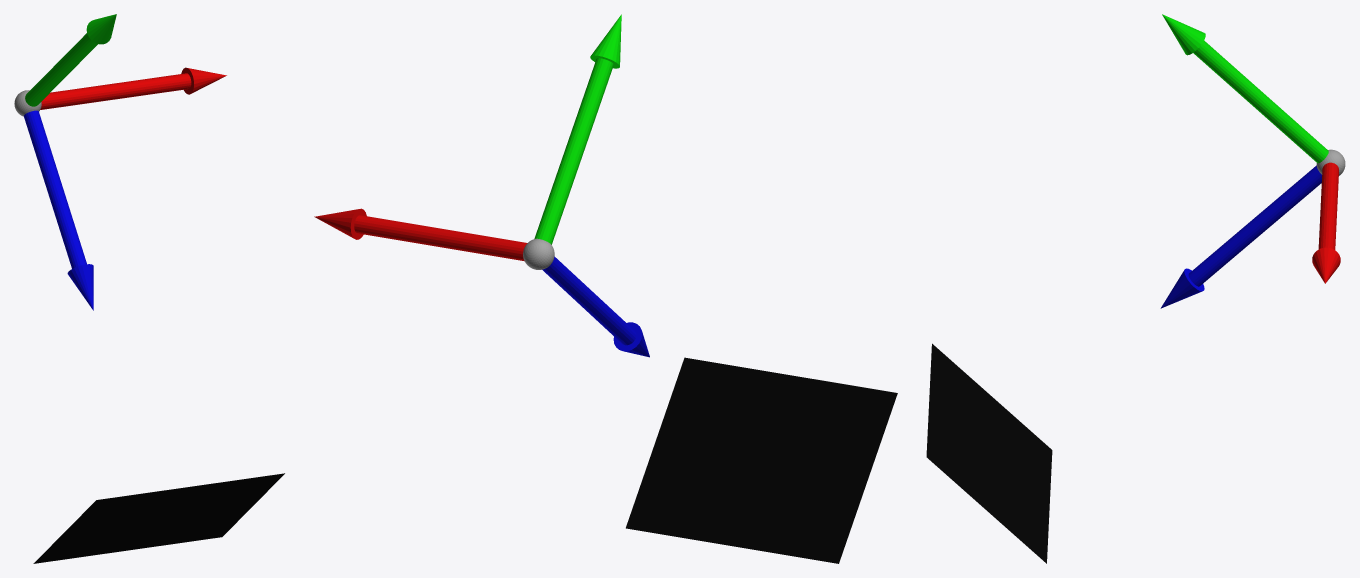
3 views of the same model, side by side, from view 1: azimuth 30°, elevation 25°; view 2: azimuth 150°, elevation 25°; view 3: azimuth 270°, elevation 25° (orthographic). The views are drawn at different scales.
Bounding box in the file's own units: 0.2049 × 0.3002 × 0.2177.
